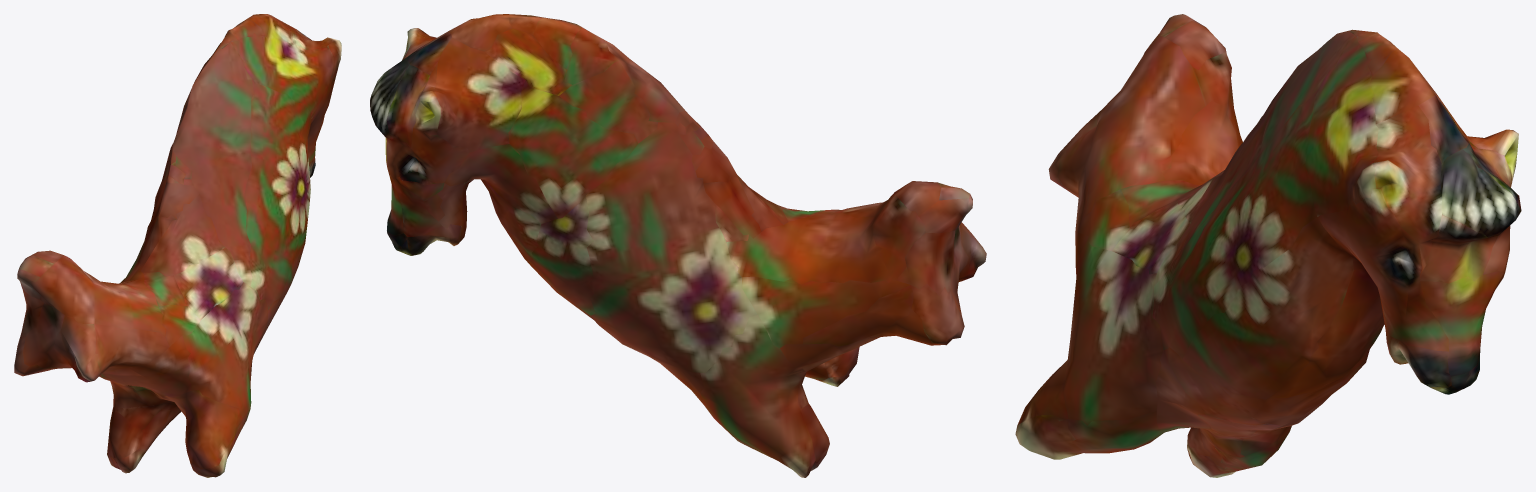
File: hall.glb
3 views of the same model, side by side, from view 1: azimuth 30°, elevation 25°; view 2: azimuth 150°, elevation 25°; view 3: azimuth 270°, elevation 25° (orthographic). The views are drawn at different scales.
Bounding box in the file's own units: 0.8647 × 0.7666 × 0.6251.
Materials: 1 (1 with a texture image).
